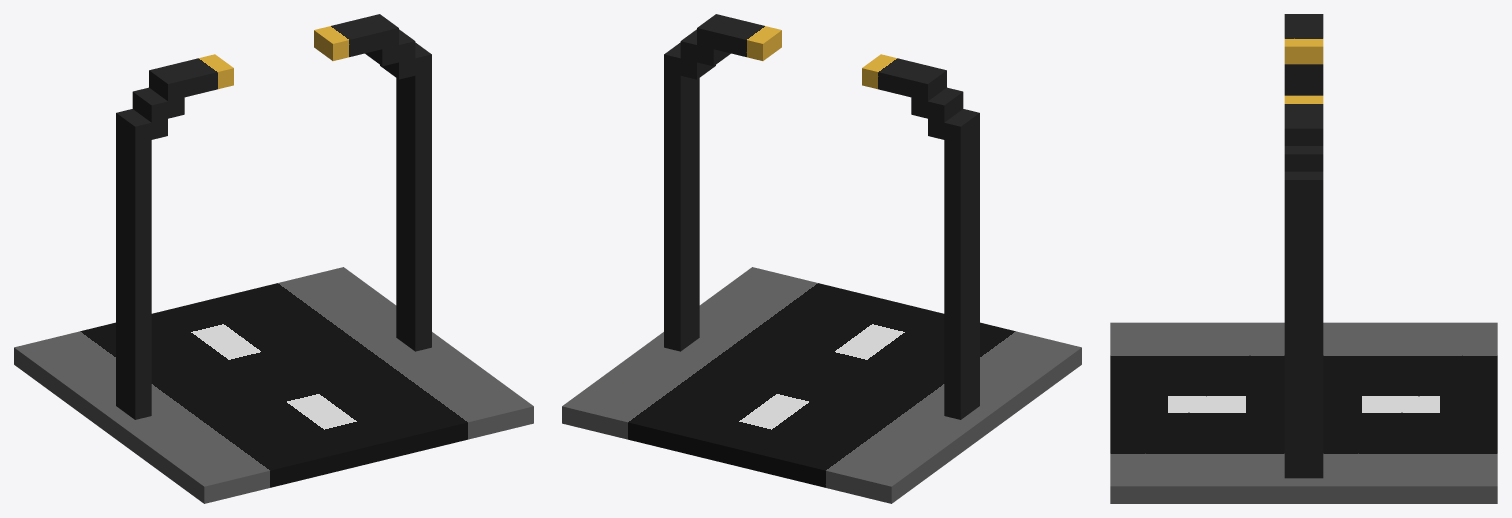
Rendered from Carretera3.fbx.
3 renders of one model, left to right at view 1: azimuth 30°, elevation 25°; view 2: azimuth 150°, elevation 25°; view 3: azimuth 270°, elevation 25°, orthographic.
Parts seen in each view (by area): view 1: Carretera1; view 2: Carretera1; view 3: Carretera1.
Boxes of the visible parts, x1=… form: Carretera1: x1=14, y1=14, x2=533, y2=503; Carretera1: x1=562, y1=14, x2=1081, y2=503; Carretera1: x1=1110, y1=14, x2=1497, y2=503.
Size of the model in its own units: 20 by 20 by 20.
